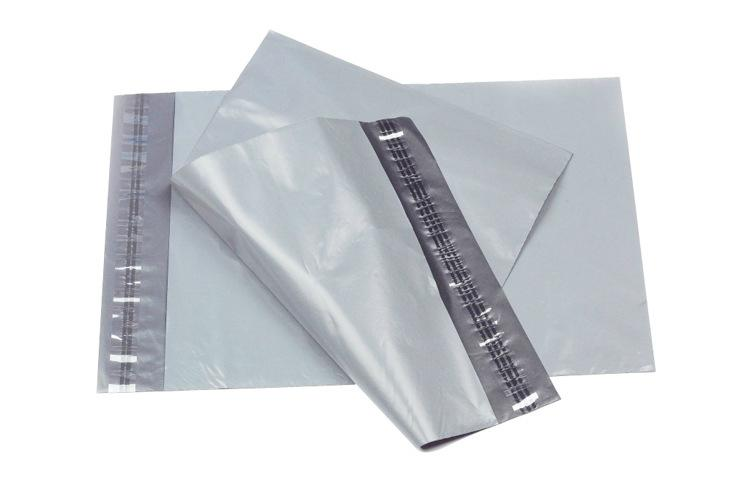塑料袋: (97, 33, 653, 451)
